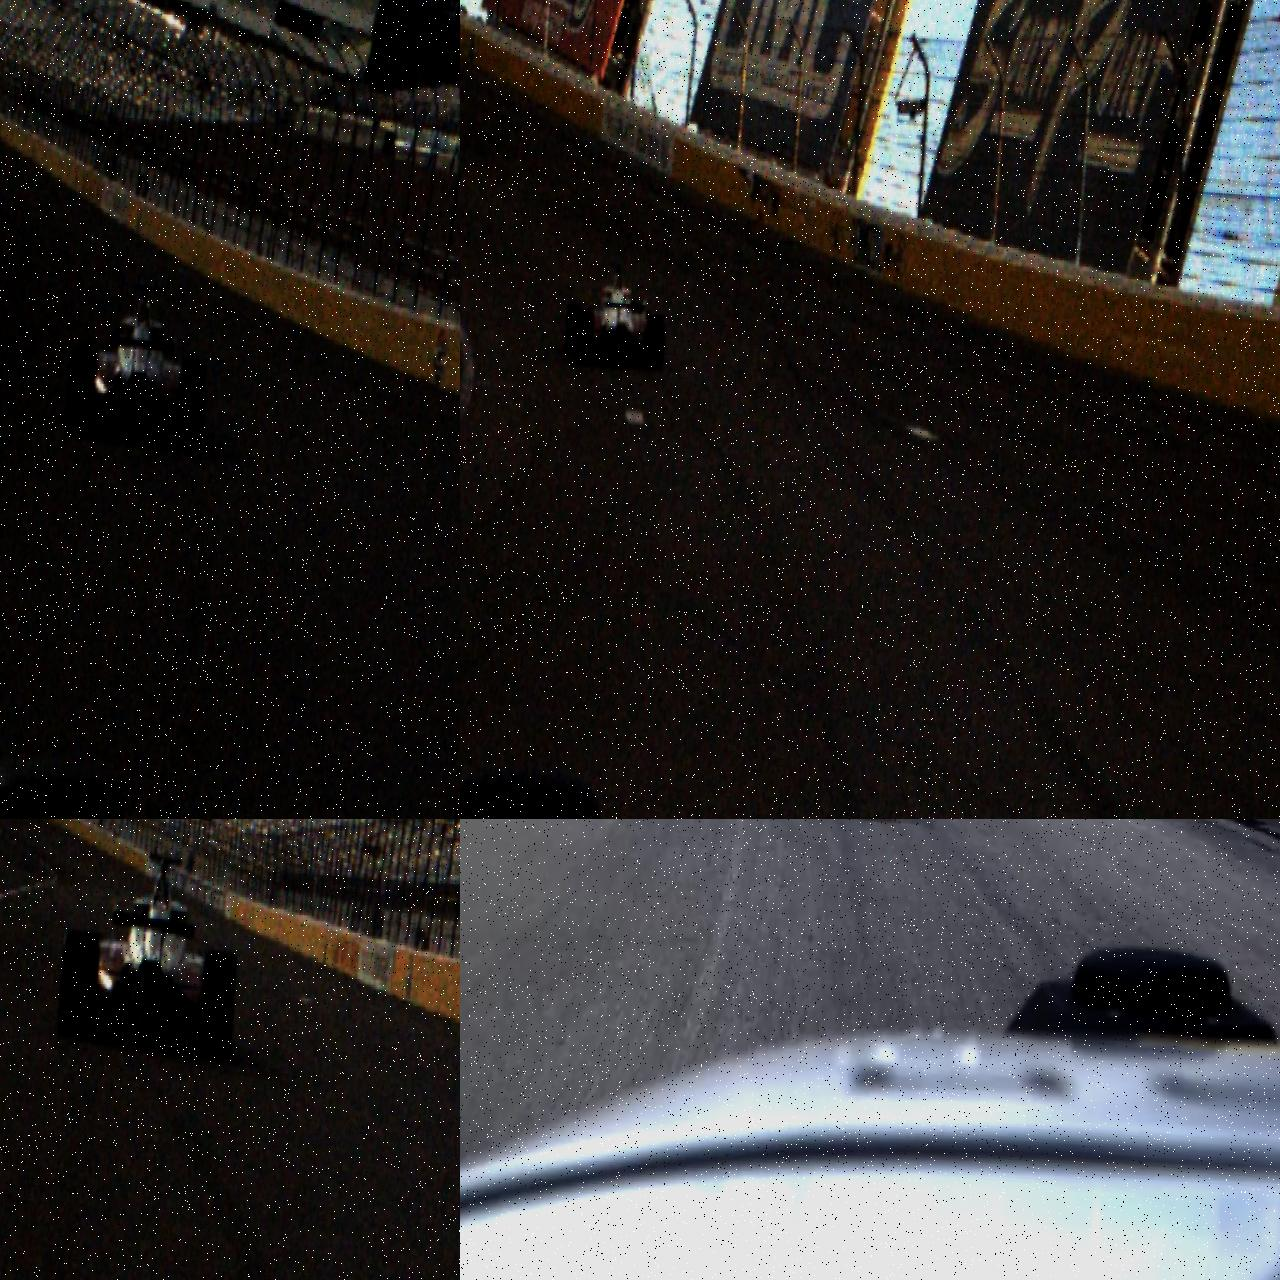AV: (54, 846, 246, 1065), (62, 277, 216, 456), (561, 256, 672, 373)
Wheel: (56, 930, 103, 1041), (197, 948, 239, 1065), (64, 347, 98, 435), (177, 361, 209, 455), (645, 313, 668, 372), (574, 309, 595, 367), (563, 301, 581, 356)
